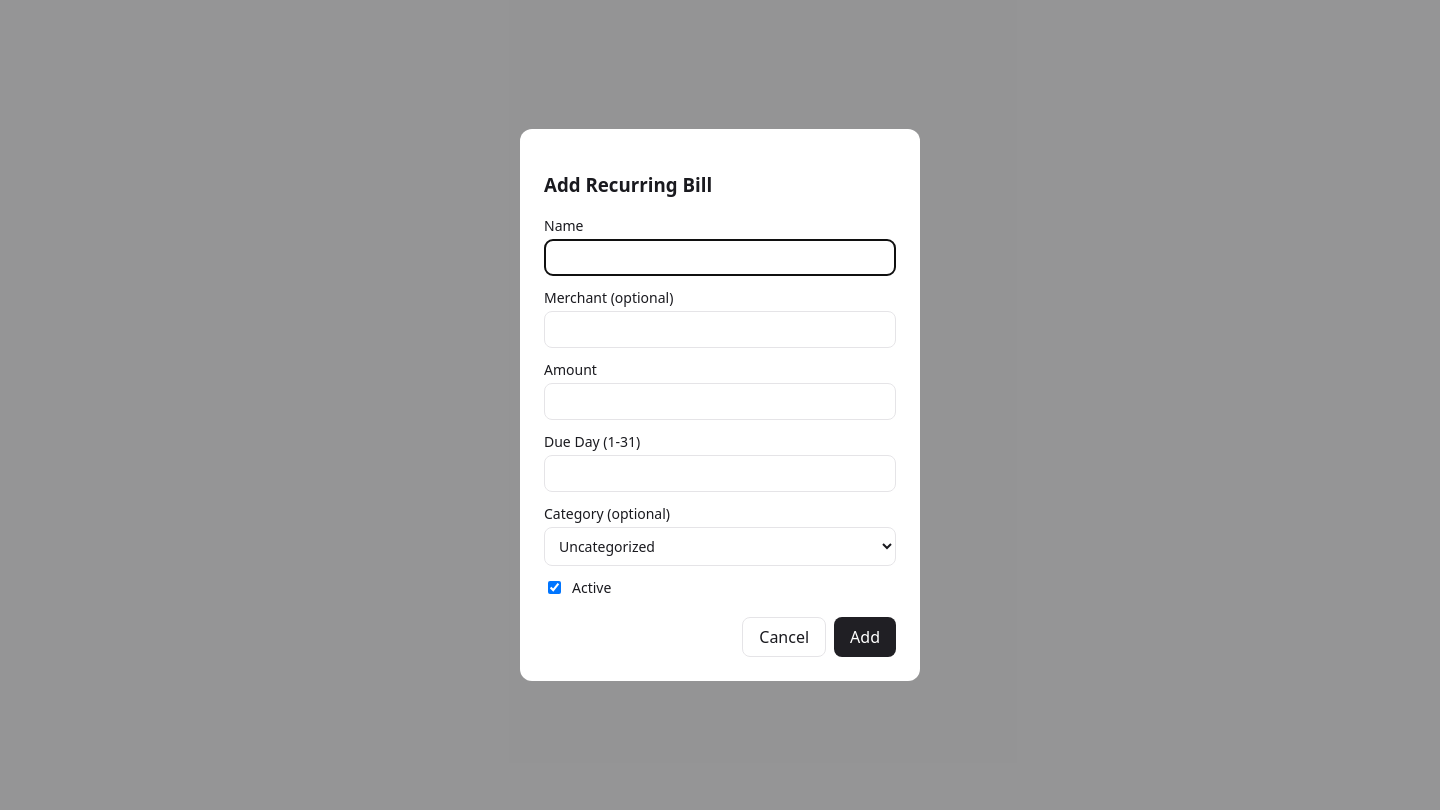
Test: RecurringBillFormModal › shows a validation error when the due day is out of range
Type "Gym" into the field labelled "Name".
click(720, 257); type("Gym")  # box [544,239,896,276]
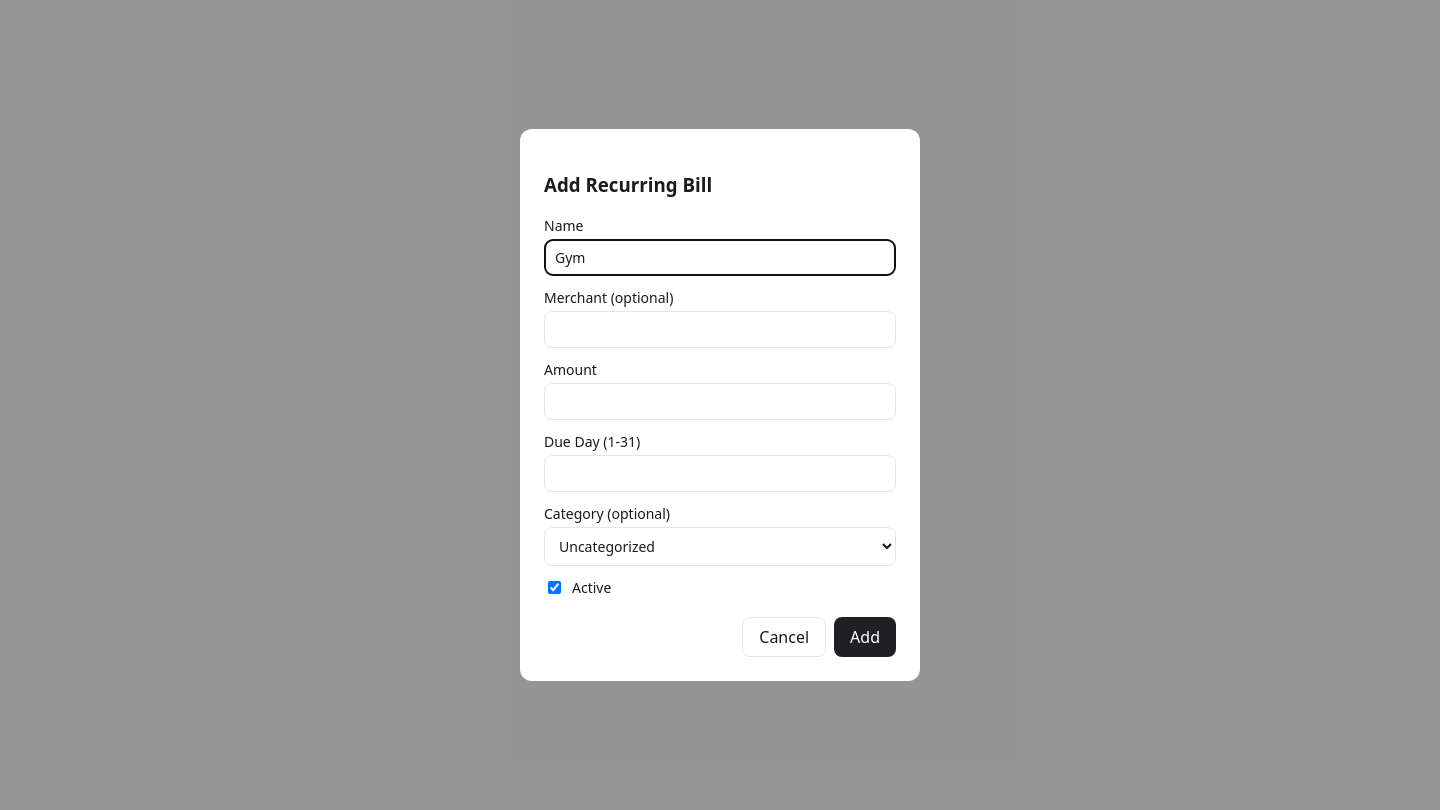
Type "30" into the number field labelled "Amount".
click(720, 401); type("30")  # box [544,383,896,420]
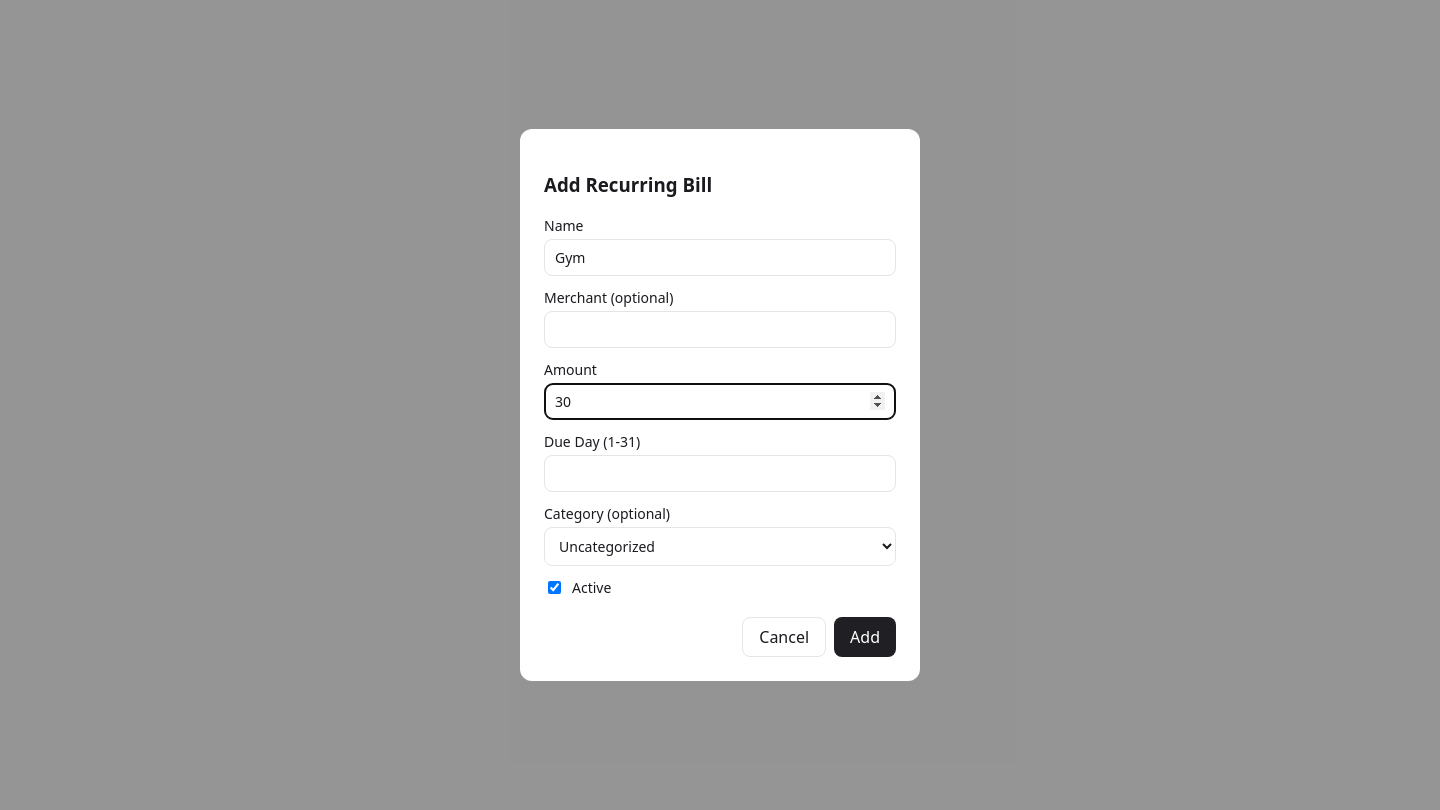
Type "45" into the number field labelled "Due Day (1-31)".
click(720, 473); type("45")  # box [544,455,896,492]
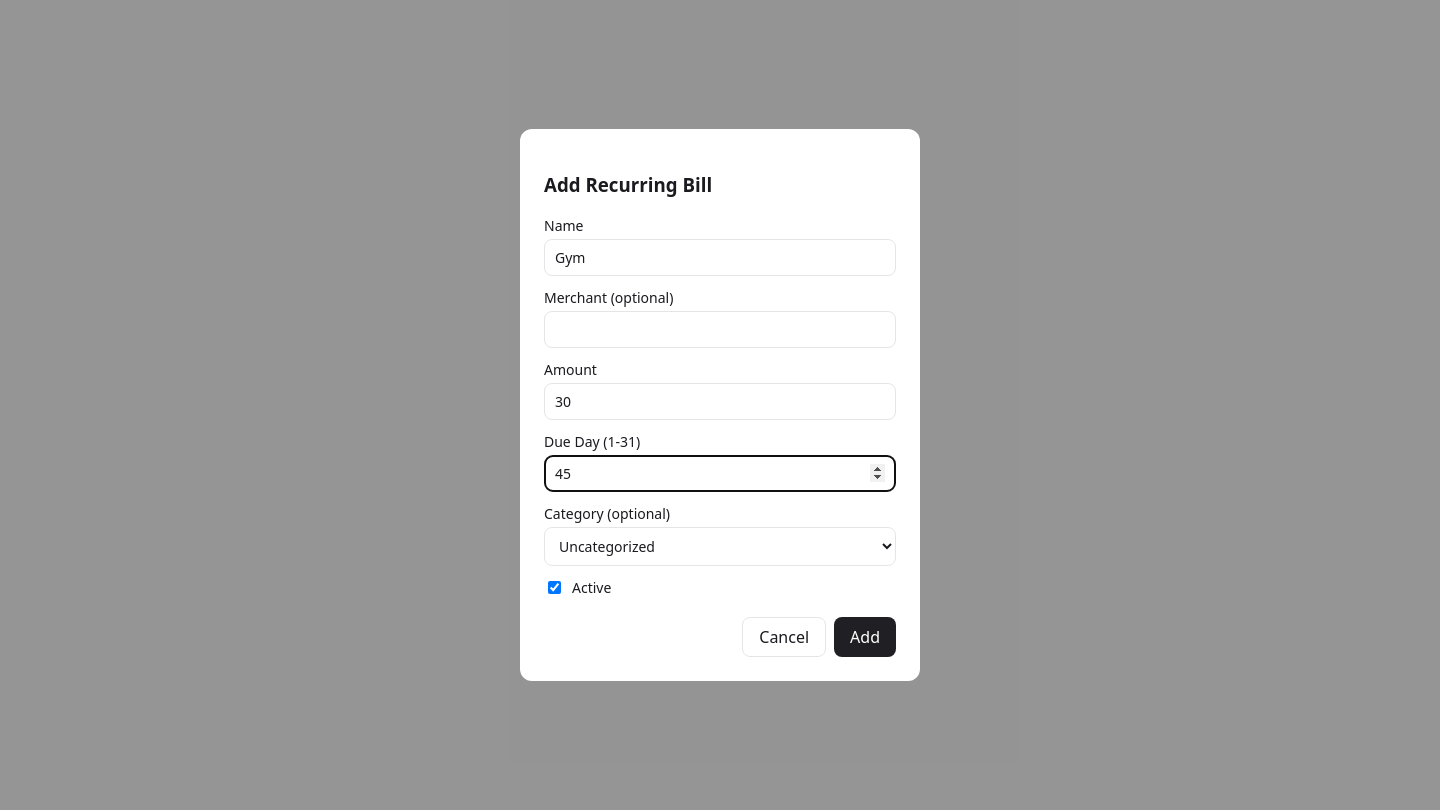
Click the button "Add".
click(865, 637)  # box [834,617,896,657]
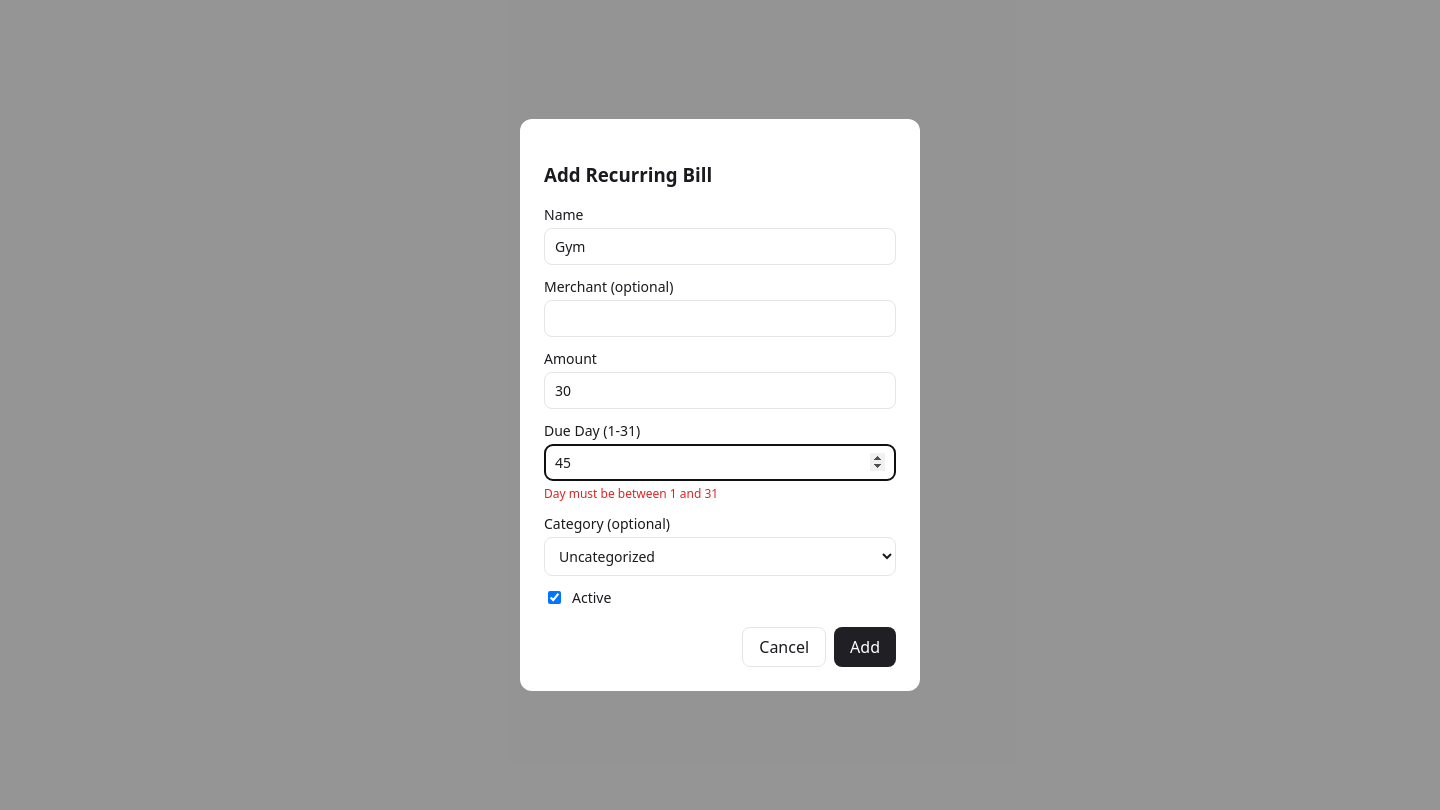
Result: the text "Day must be between 1 and 31" is shown at [544,485,718,502]
